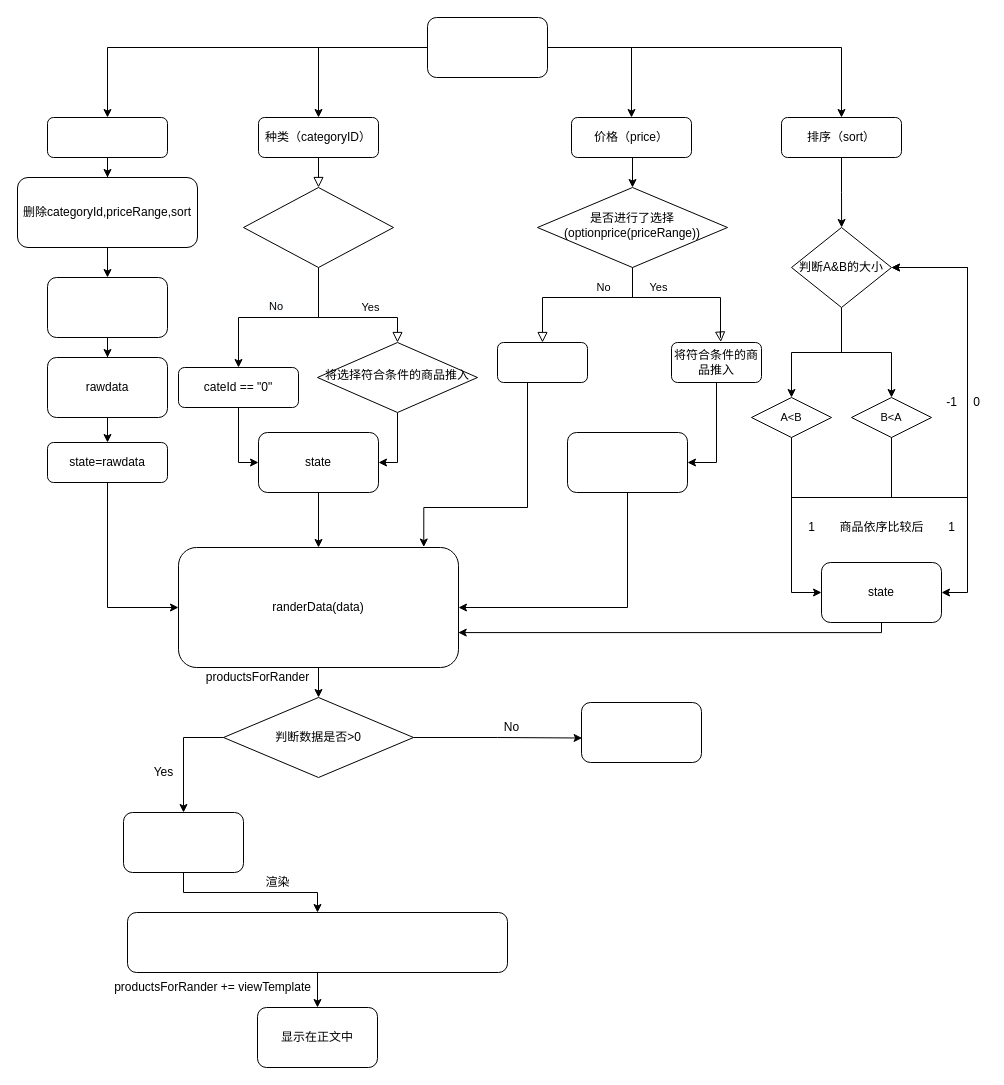
This 1004x1085 diagram has some shape labels left out. The shapes that lost their labels are listed below. From the top down, each one's box as (x1, y1, x2, y2) in pixels, then its label:
(426, 16, 548, 78): 选择按钮（selectoption）
(46, 116, 168, 158): 重置默认
(242, 186, 394, 268): 是否进行了选择(optioncate(cateId))
(46, 276, 168, 338): 将cateSelect和priceSelect的值设定为0
(496, 342, 588, 382): filteredProds = state
(566, 432, 688, 492): filteredProds
(580, 702, 702, 762): 显示没有有效的物品
(122, 812, 244, 872): 将商品推入data
(126, 912, 508, 972): 放入属于商品的图片，将跳转设置为物品详情页面，此外还有商品的名称以及商品价格
